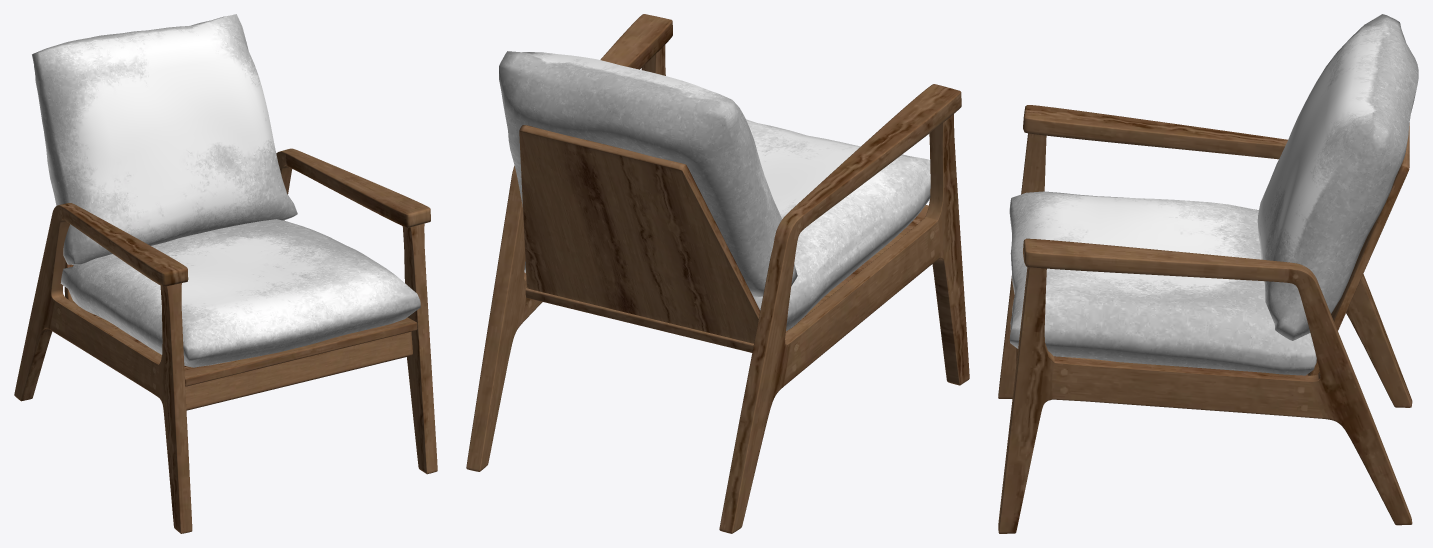
Rendered from chair.glb.
3 views of the same model, side by side, from view 1: azimuth 30°, elevation 25°; view 2: azimuth 150°, elevation 25°; view 3: azimuth 270°, elevation 25° (orthographic). The views are drawn at different scales.
Parts seen in each view (by area): view 1: modern_arm_chair_01; view 2: modern_arm_chair_01; view 3: modern_arm_chair_01.
Part boxes in pixels (box(x1,y1,x2,y2)): modern_arm_chair_01: box(14, 14, 437, 533); modern_arm_chair_01: box(466, 14, 969, 533); modern_arm_chair_01: box(998, 14, 1418, 533).
Bounding box in the file's own units: 0.8203 × 1.02 × 0.9865.
Materials: 2 (2 with a texture image).
